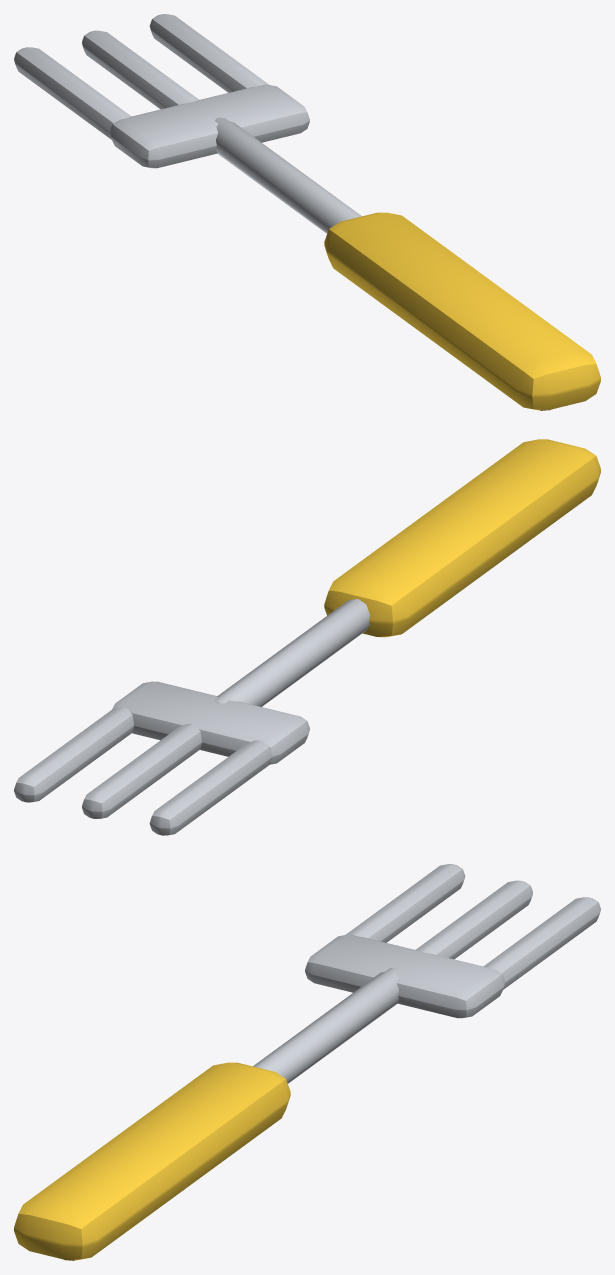
Rendered from garfo_cozinha.glb.
The picture shows the model from 3 angles, top to bottom: view 1: azimuth 30°, elevation 25°; view 2: azimuth 150°, elevation 25°; view 3: azimuth 330°, elevation 25°; orthographic projection.
Parts seen in each view (by area): view 1: garfo_cozinha; view 2: garfo_cozinha; view 3: garfo_cozinha.
Boxes of the visible parts, x1,y1,x2,y2 form: garfo_cozinha: (14, 14, 600, 410); garfo_cozinha: (14, 439, 600, 835); garfo_cozinha: (14, 864, 600, 1260).
Size of the model in its own units: 0.05 by 0.017 by 0.245.
Materials: 1 (1 with a texture image).
